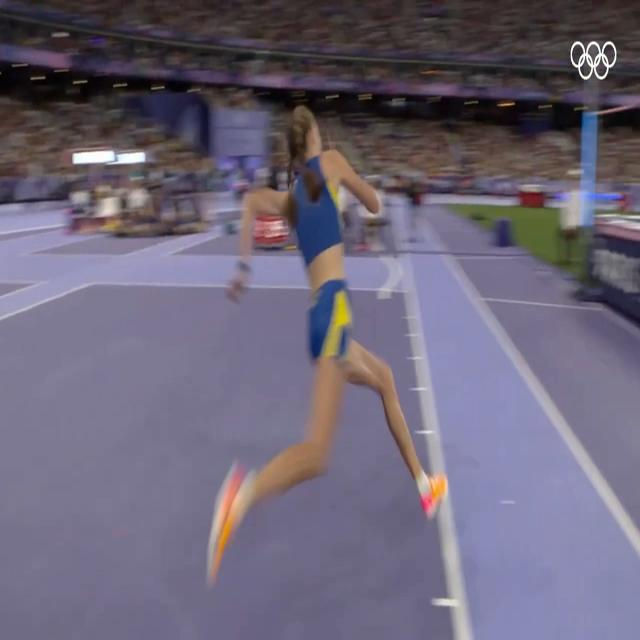run: (208, 99, 445, 579)
